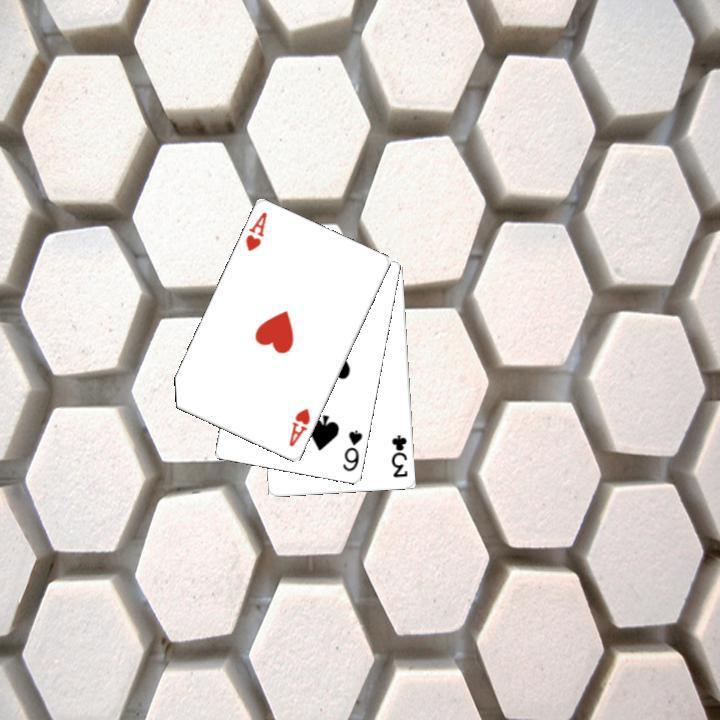3: (387, 431, 410, 480)
6: (338, 426, 365, 474)
A: (241, 208, 269, 254), (285, 404, 313, 449)
